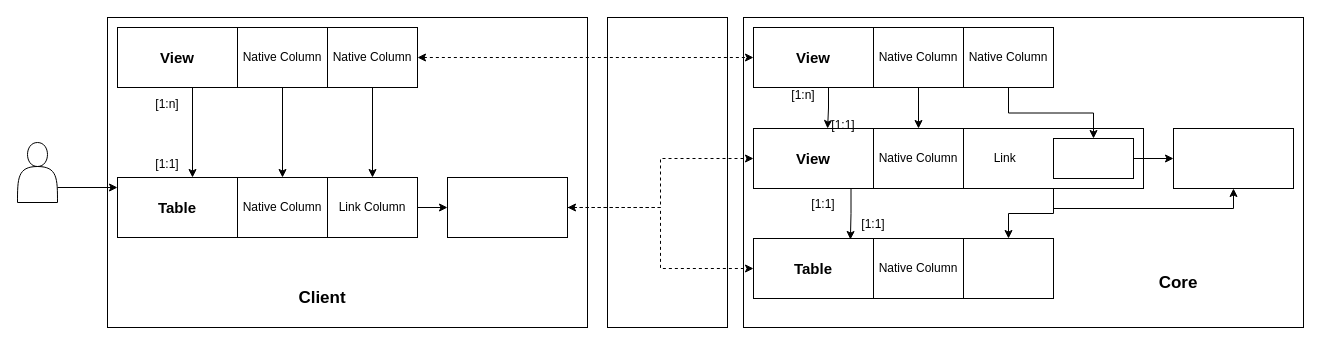
Image size: 1321x345. Some labels were removed from this diagram. The shapes that lost their labels are listed below. From the top down, each one's centre as x and y in pixels, then its label:
At (x=667, y=172): "Server".
At (x=1093, y=158): "Foreign Column".
At (x=1233, y=158): "Other View".
At (x=507, y=207): "Other Table".
At (x=1008, y=268): "Foreign Key".
